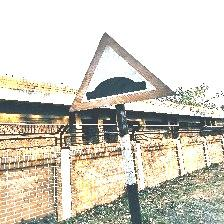Speed-breaker: (70, 30, 172, 112)
